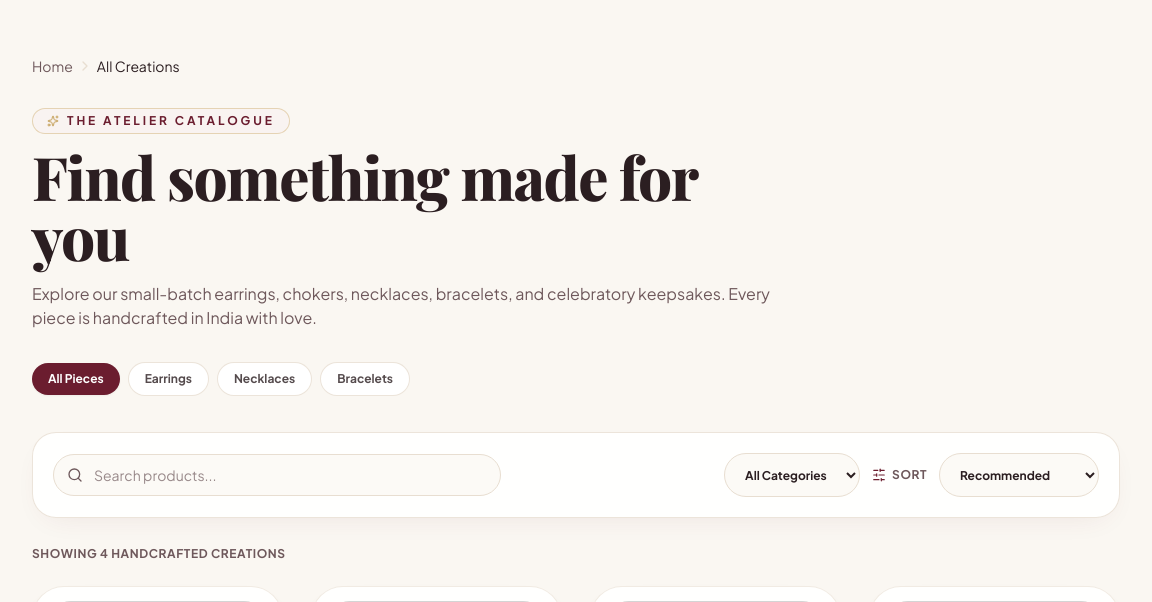
Scenario: ProductsPage › handles sorting options
This screenshot has width=1152, height=602.
Select "Price: Low to High" in the dropdown named "Sort products": (1019,475) [939,453,1099,497]
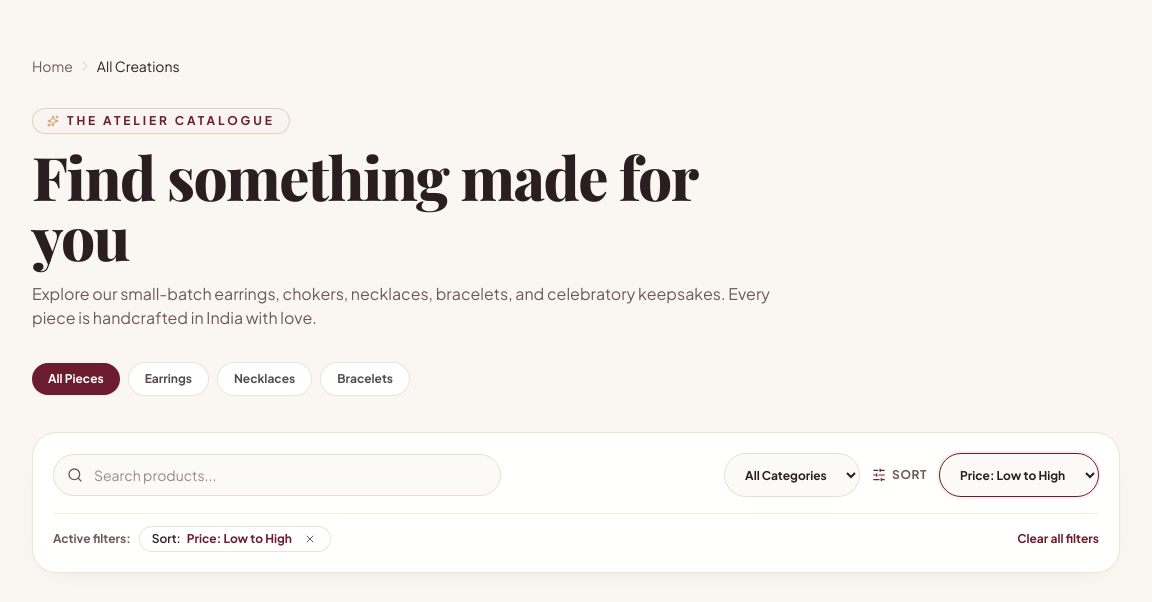
Now the text "Sort: Price: Low to High" is shown, box [139,526,331,552]
Now the button named "Remove sort filter" is shown, box [302,531,318,547]
